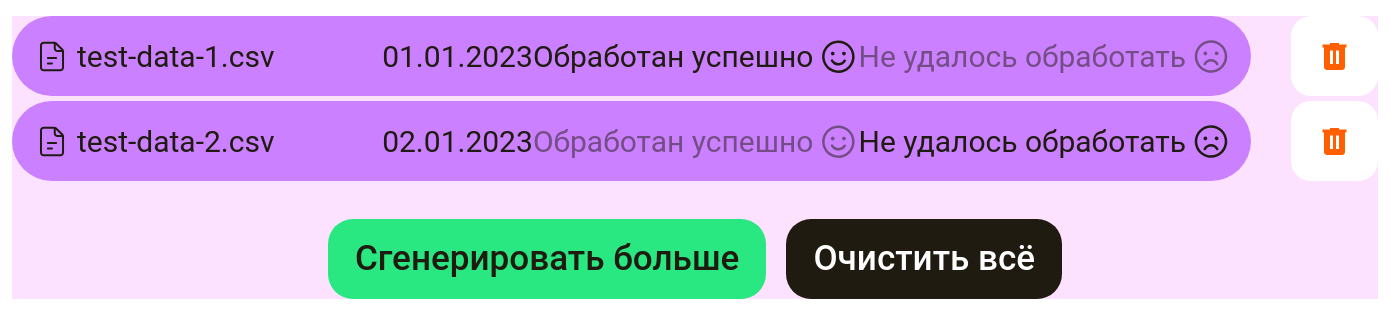
Test case: Интеграционные тесты для HistoryPage › TC-HY-002: Удаление одной записи из истории
This screenshot has width=1390, height=316.
Expected: the number of elements with test id "history-item" is 2, [12, 16, 1378, 96]; [12, 101, 1378, 181]
Step 1. Click the 1st button with test id "history-item-delete-button" → (1334, 56), box [1291, 16, 1378, 96]
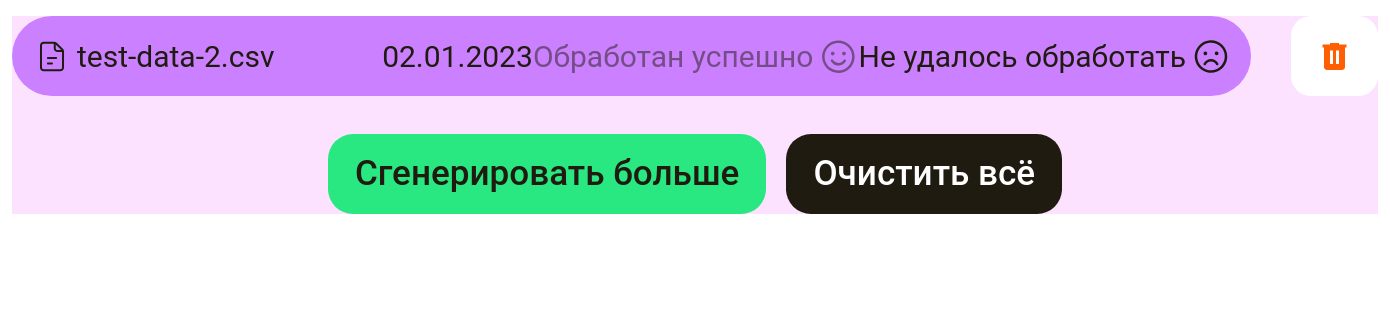
Expected: the number of elements with test id "history-item" is 1, [12, 16, 1378, 96]
Expected: the button "test-data-1.csv" is gone
